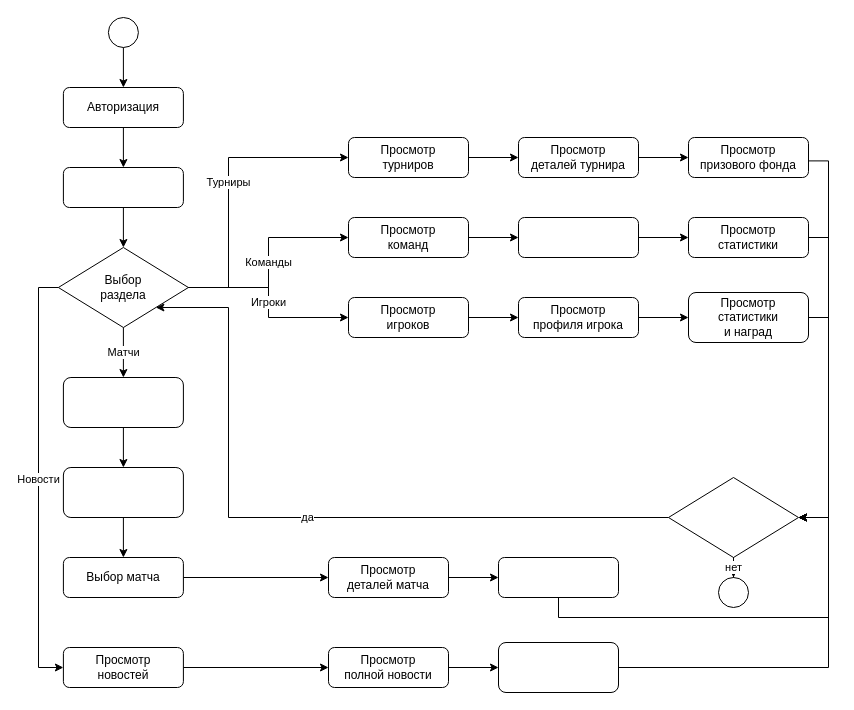
Image size: 854x710. Some labels were removed from this diagram. Here are the shapes that lost their labels. From the top down, the centre of each, then its label:
At point (122, 187): "Главная страница".
At point (578, 237): "Просмотр состава команды".
At point (122, 402): "Просмотр расписания матчей".
At point (122, 492): "Фильтрация по дате/турниру".
At point (733, 517): "Продолжить просмотр?".
At point (558, 577): "Просмотр результатов".
At point (558, 667): "Поиск по ключевым словам".
